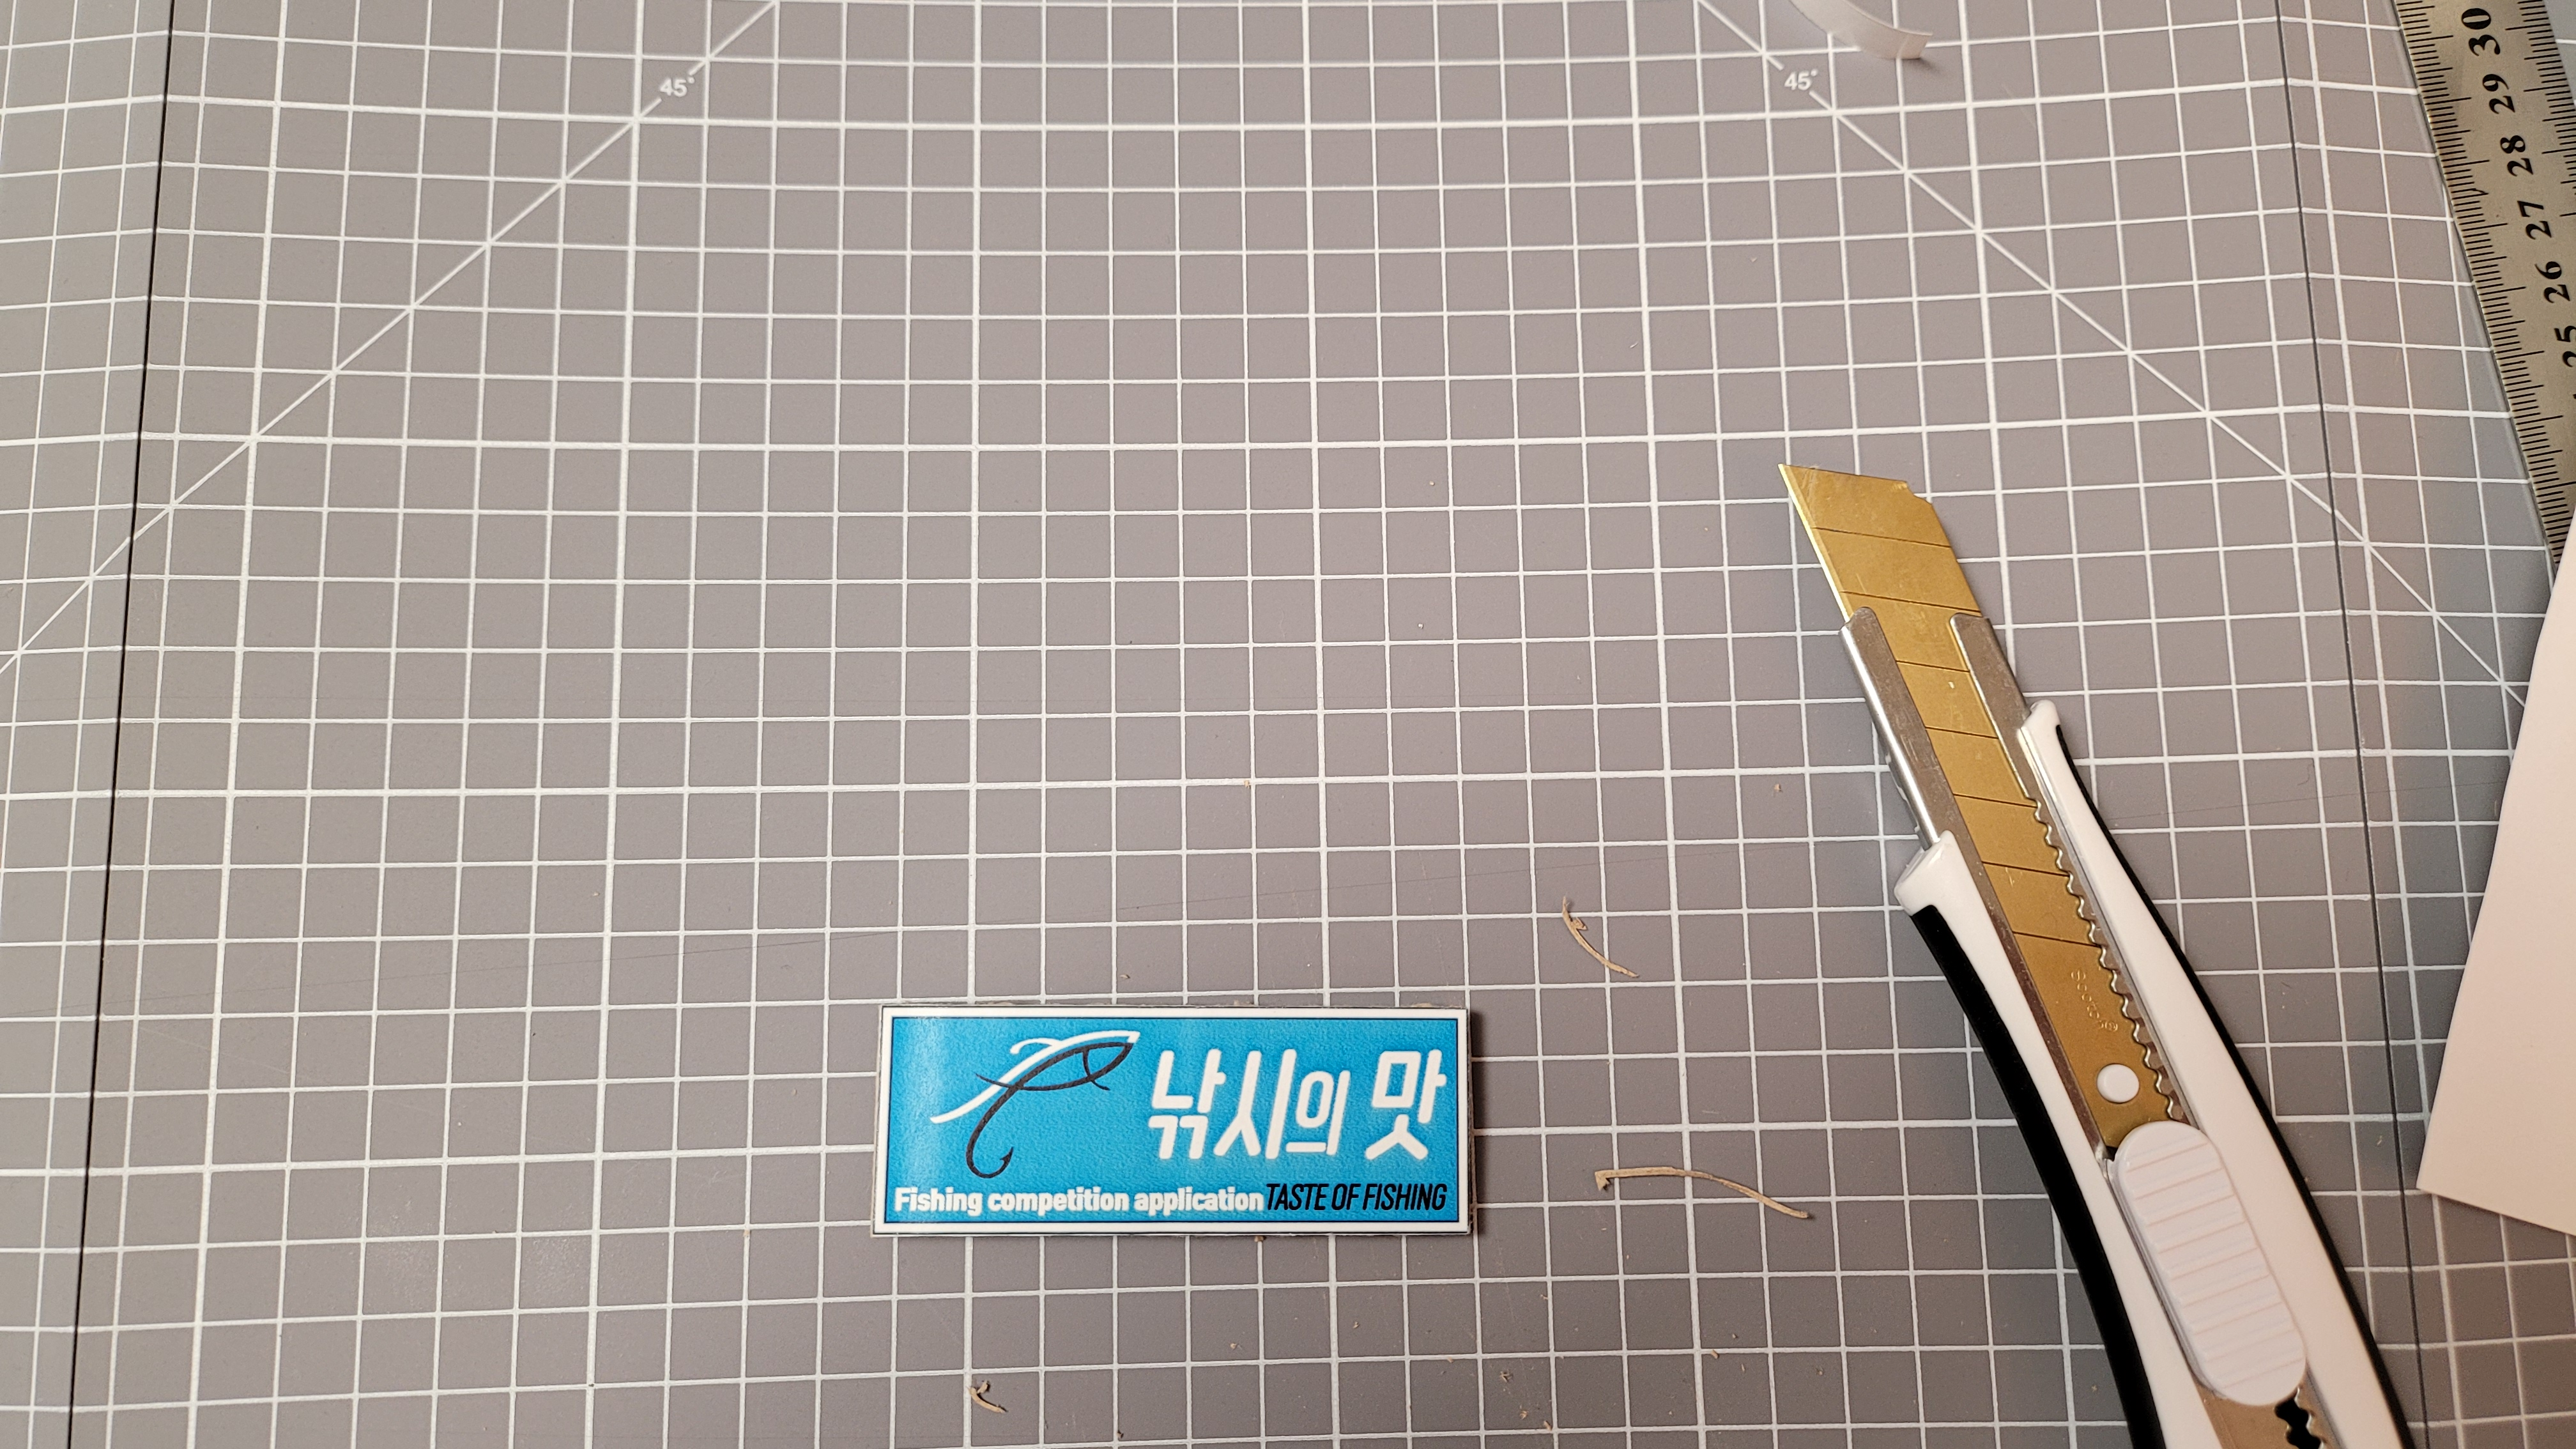tag: (883, 1010, 1479, 1235)
